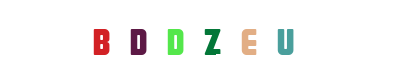B: (61, 0, 141, 80)
D: (98, 0, 178, 80), (160, 0, 240, 80)
E: (188, 0, 268, 80)
U: (191, 0, 271, 80)
Z: (172, 0, 252, 80)
